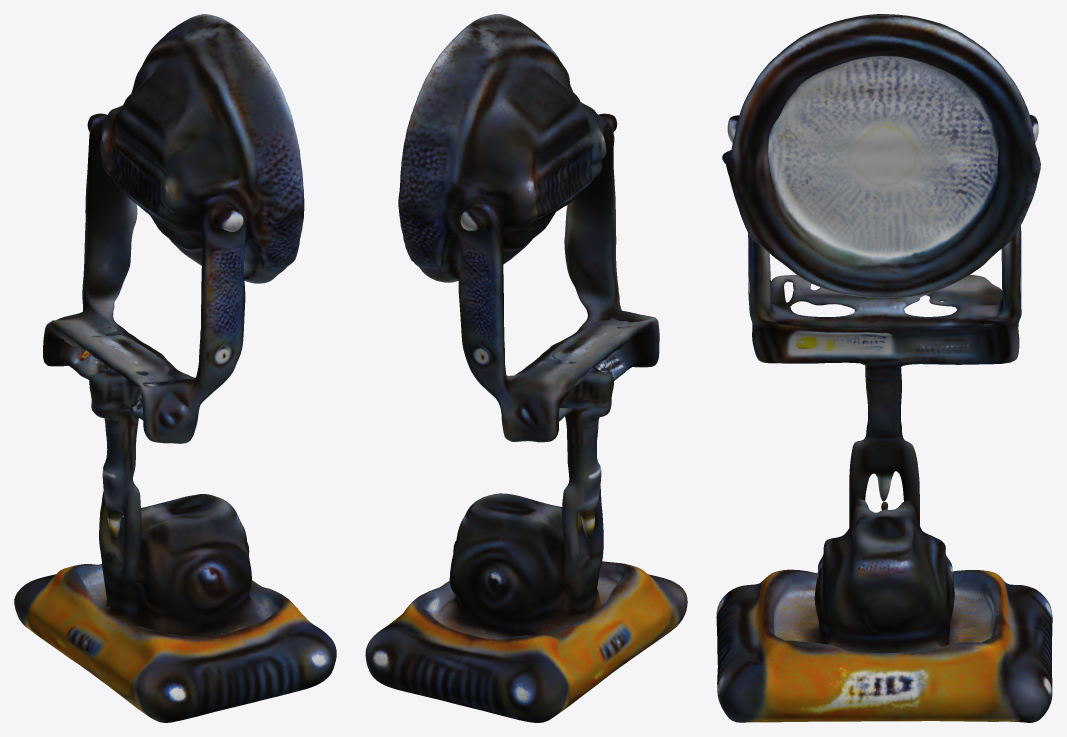
Rendered from 1aef19e461d7_Work_Light___4k___H.fbx.
3 views of the same model, side by side, from view 1: azimuth 30°, elevation 25°; view 2: azimuth 150°, elevation 25°; view 3: azimuth 270°, elevation 25° (orthographic). The views are drawn at different scales.
Parts seen in each view (by area): view 1: high_poly; view 2: high_poly; view 3: high_poly.
Boxes of the visible parts, box(x1,y1,x2,y2) form: high_poly: box(14, 14, 336, 722); high_poly: box(365, 14, 687, 722); high_poly: box(716, 14, 1052, 722).
Size of the model in its own units: 32.38 by 100 by 43.79.
